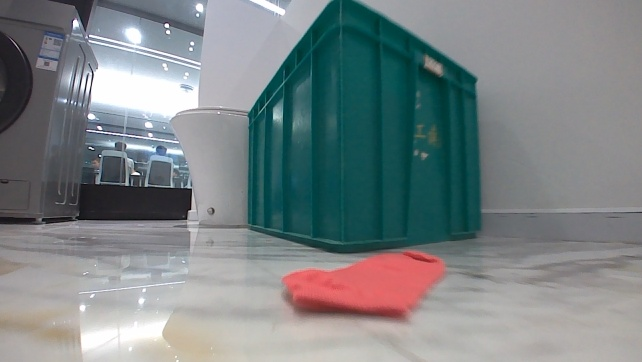socks: (280, 246, 449, 322)
toilet: (164, 101, 255, 232)
washing_machine: (0, 0, 105, 228)
